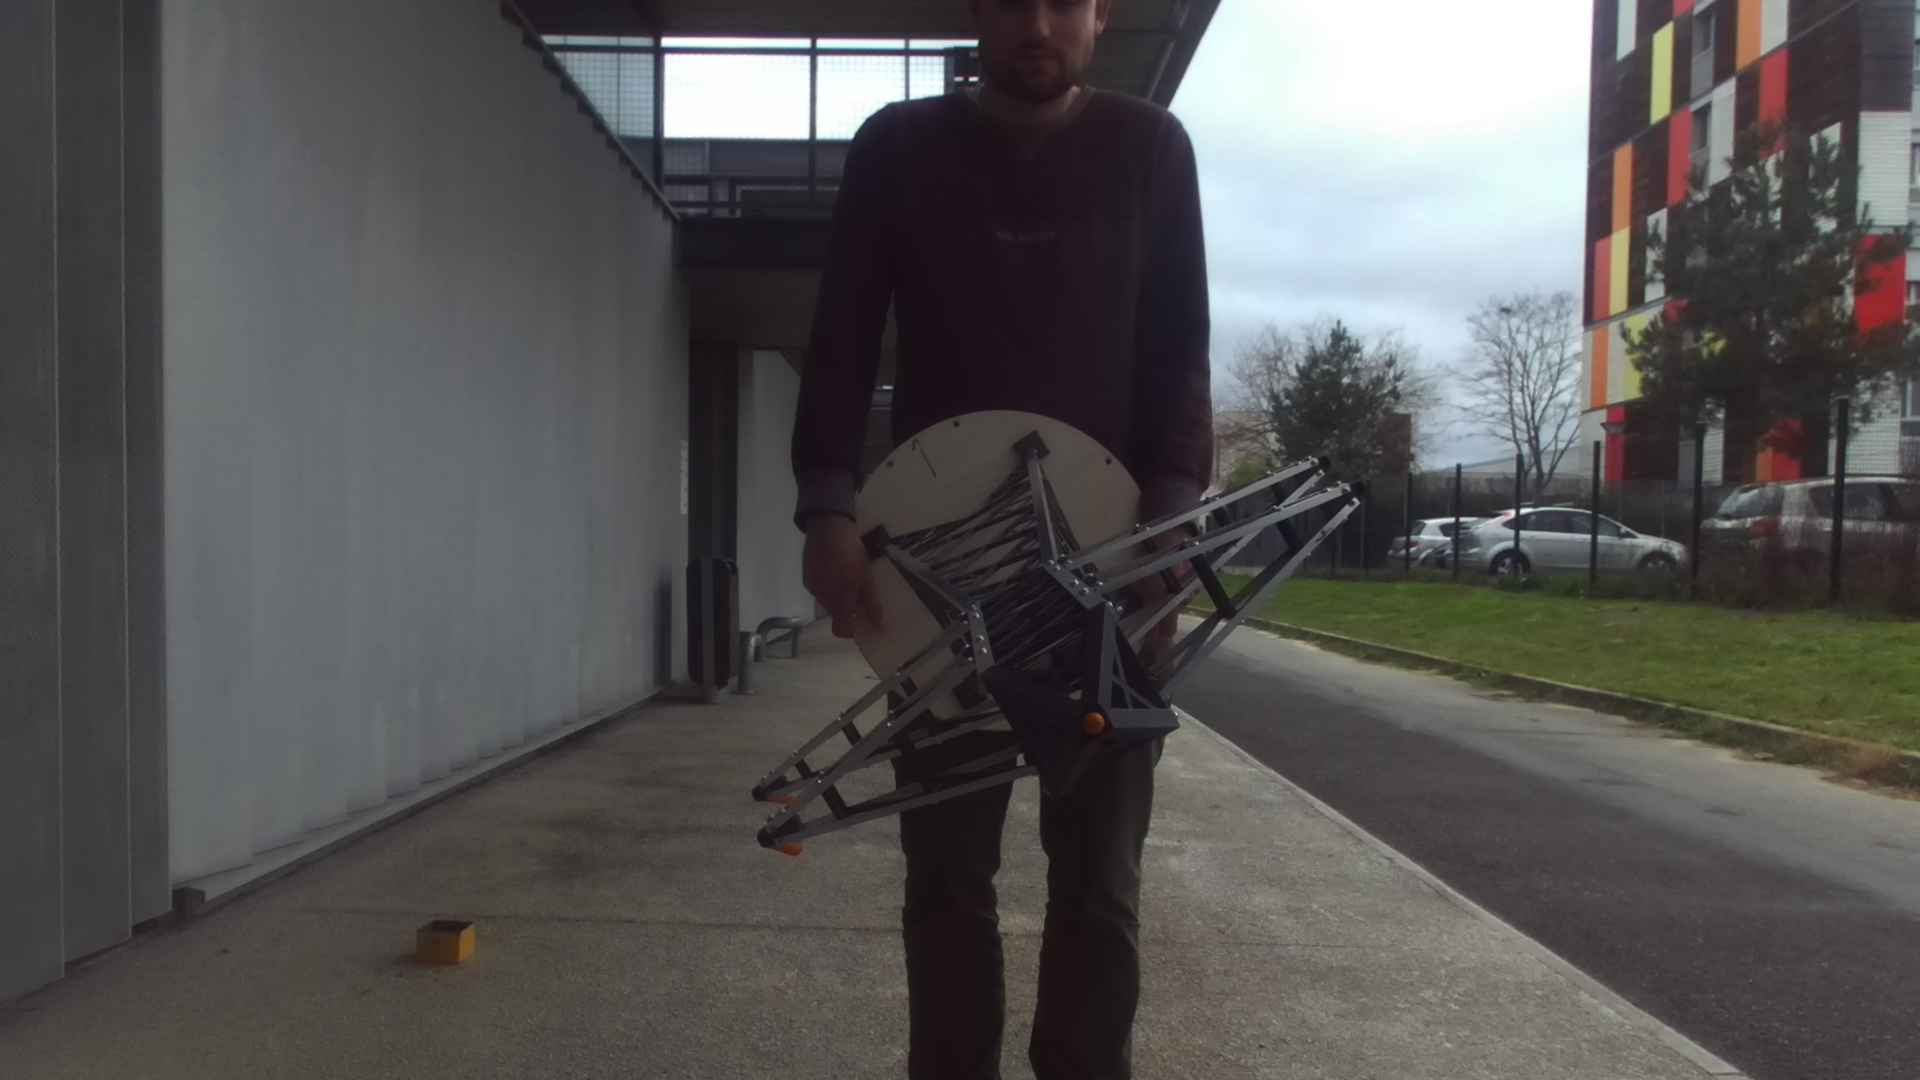pylon_phy: (749, 473, 1377, 851)
